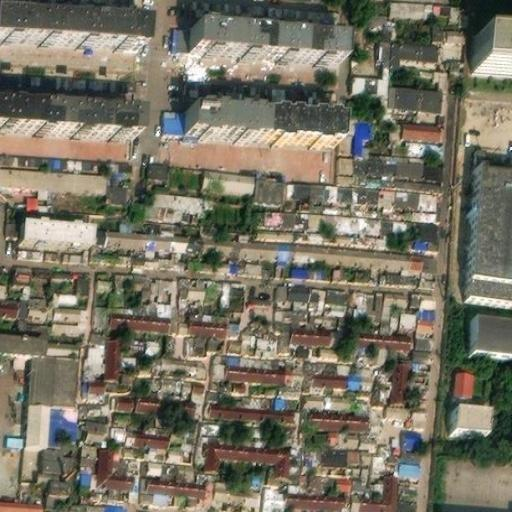building: (190, 15, 342, 53), (181, 100, 335, 136), (0, 9, 145, 45), (472, 171, 512, 300), (0, 101, 142, 137), (28, 351, 83, 401), (204, 437, 292, 468), (89, 331, 137, 385), (18, 214, 88, 244), (0, 353, 25, 434), (208, 396, 299, 418), (266, 480, 347, 504), (366, 147, 437, 174), (352, 470, 400, 509), (80, 450, 133, 483), (336, 104, 376, 147), (146, 186, 202, 216), (226, 357, 302, 378), (251, 203, 295, 238), (364, 286, 402, 326), (138, 348, 207, 370), (178, 307, 241, 331), (473, 306, 512, 344), (399, 289, 436, 328), (307, 406, 372, 428), (110, 305, 174, 327), (306, 389, 373, 410), (388, 0, 466, 18), (29, 290, 81, 316), (50, 399, 80, 443), (108, 421, 167, 443), (275, 279, 311, 315), (392, 81, 446, 105), (202, 166, 253, 190), (310, 364, 371, 384), (141, 472, 208, 490), (314, 442, 377, 461), (334, 145, 368, 180), (26, 398, 53, 442), (322, 425, 378, 446), (388, 116, 444, 137), (395, 34, 440, 60), (449, 395, 492, 422), (135, 390, 193, 410), (353, 323, 413, 342), (380, 211, 413, 245), (322, 207, 354, 242), (388, 395, 426, 424), (112, 266, 151, 294), (350, 62, 389, 90), (0, 262, 32, 296), (293, 205, 324, 240), (477, 52, 512, 83), (82, 415, 110, 452), (39, 441, 77, 468), (438, 498, 511, 512), (352, 209, 382, 243), (0, 434, 18, 489), (214, 478, 260, 499), (142, 371, 202, 387), (284, 175, 325, 197), (248, 319, 280, 347), (377, 181, 418, 202), (251, 173, 285, 198), (411, 213, 435, 247), (290, 321, 340, 337), (389, 356, 409, 396), (48, 332, 84, 354), (147, 158, 171, 188), (411, 327, 434, 358), (180, 272, 209, 296), (451, 367, 474, 397), (130, 228, 167, 246), (323, 281, 347, 308), (166, 230, 200, 248), (349, 179, 378, 200), (379, 243, 411, 262), (199, 232, 232, 250), (136, 506, 234, 512), (47, 476, 76, 496), (231, 234, 263, 252), (292, 238, 324, 256), (169, 17, 191, 43), (403, 443, 423, 471), (262, 236, 293, 254), (89, 297, 108, 326), (324, 177, 350, 198), (0, 294, 30, 312), (351, 242, 380, 260), (323, 240, 352, 258), (102, 226, 131, 244), (401, 422, 424, 444), (306, 280, 324, 307), (221, 275, 244, 296), (161, 104, 182, 127), (375, 30, 390, 62), (108, 389, 136, 406), (87, 500, 125, 512), (417, 183, 438, 203), (410, 245, 433, 263), (129, 251, 166, 262), (40, 503, 82, 512), (142, 455, 163, 473), (165, 253, 198, 264), (198, 255, 231, 266), (320, 336, 339, 355), (230, 257, 262, 268), (291, 261, 323, 272), (261, 259, 291, 270), (251, 290, 274, 304), (322, 263, 351, 274), (378, 267, 409, 277), (101, 249, 129, 260), (350, 265, 378, 275), (409, 269, 431, 279)
